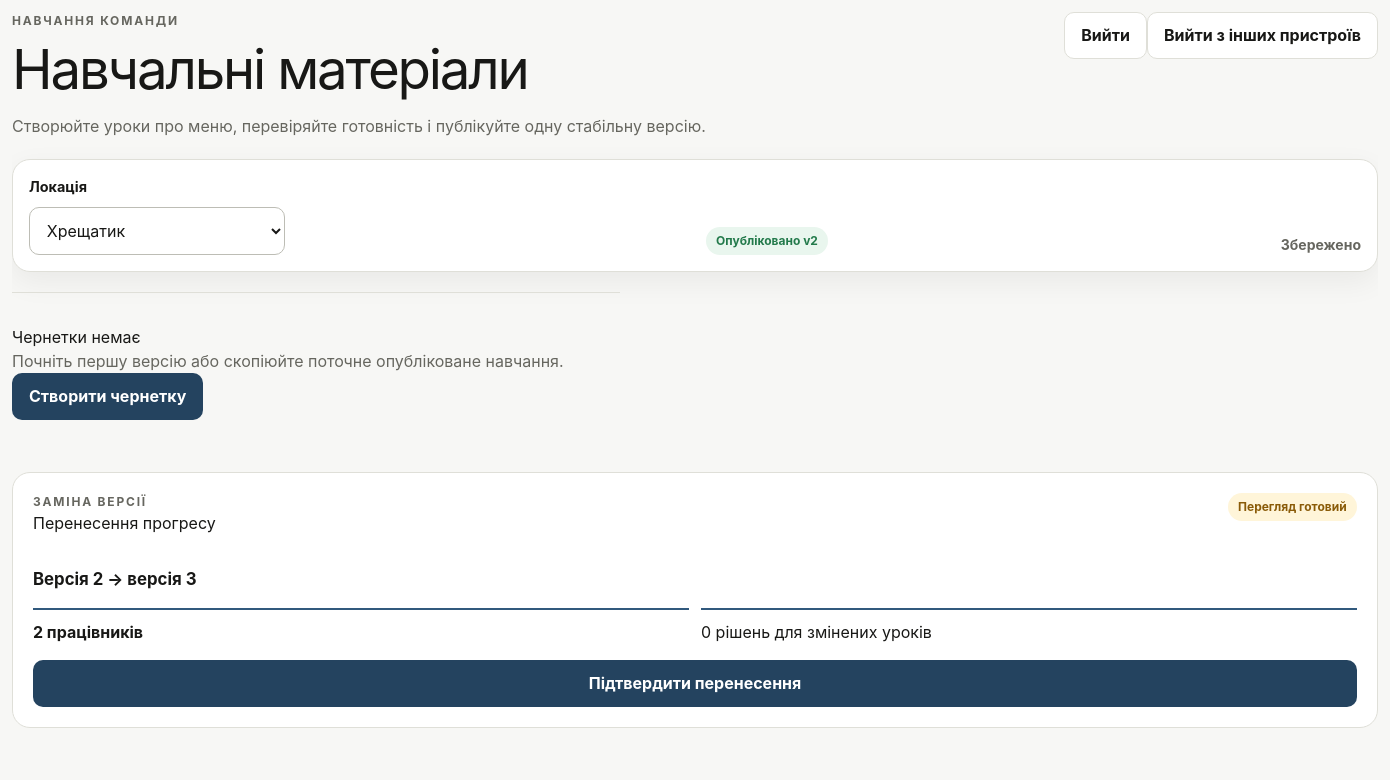
Test case: Admin Training workspace › restores the saved rollout after reopening without publishing or confirming
Expected: the button "Підтвердити перенесення" is enabled, [33,660,1357,707]
Expected: the text "2 працівників" is shown, [33,608,689,644]
Select "Поділ" in the dropdown labelled "Локація" at [157, 231], box [29,207,285,255]
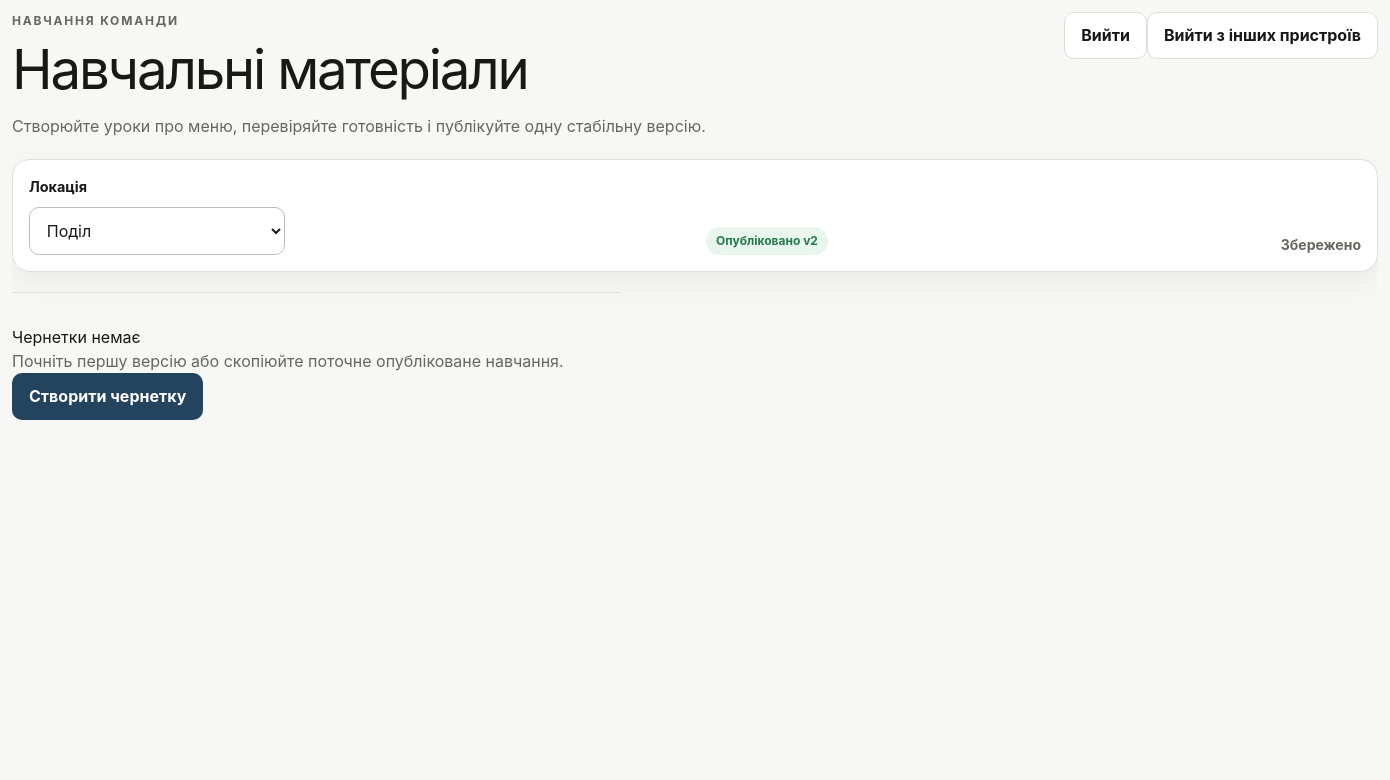
Result: the heading "Перенесення прогресу" is gone
